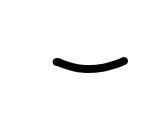minus: (50, 54, 131, 78)
